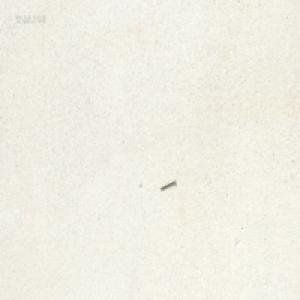Bolt: (159, 178, 175, 190)
